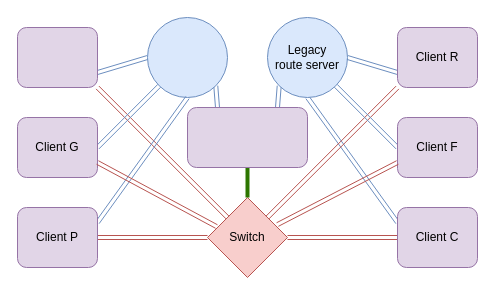
Image size: 495x295. Some labels were removed from this diagram. The shapes that lost their labels are listed below. From the top down, each one's centre as x and y in pixels, then its label:
point (57, 57): Client B
point (187, 57): RFC 8950 route server
point (247, 137): BGP Proxy
